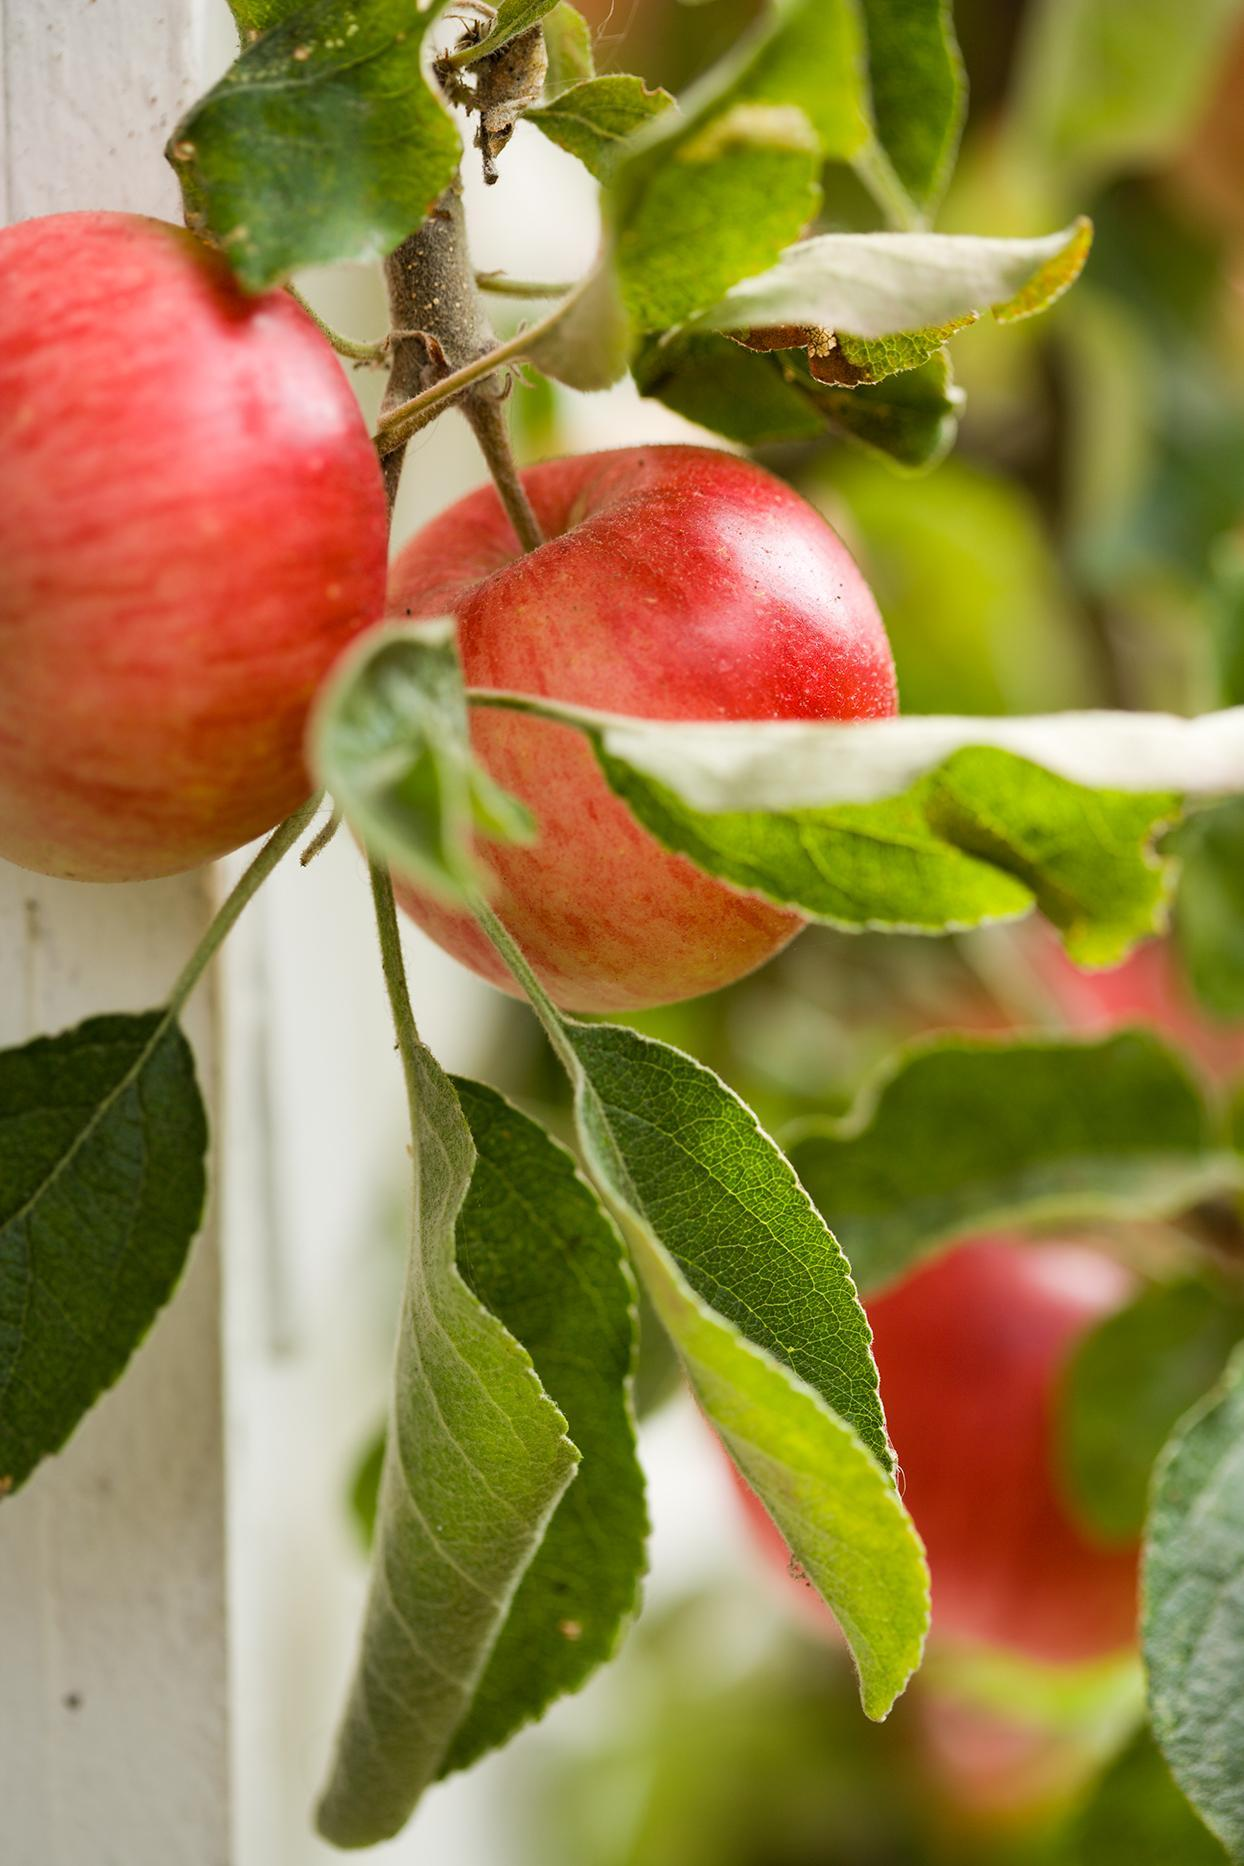apple: (387, 436, 897, 1008), (1, 212, 385, 890)
